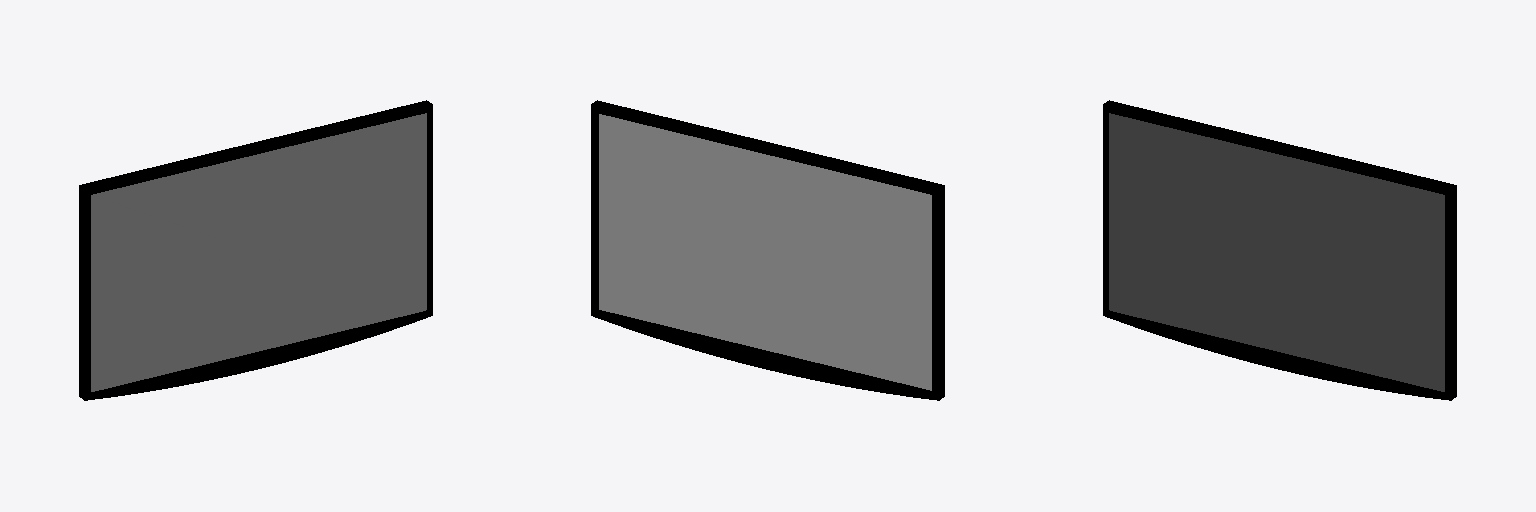
The model's file is Pantalla_o.obj.
3 renders of one model, left to right at view 1: azimuth 30°, elevation 25°; view 2: azimuth 150°, elevation 25°; view 3: azimuth 330°, elevation 25°, orthographic.
Parts seen in each view (by area): view 1: Pantalla TV group polySurface1, Pantalla TV group polySurface2; view 2: Pantalla Pantalla TV group, Pantalla TV group polySurface2; view 3: Pantalla TV group polySurface1, Pantalla TV group polySurface2.
Boxes of the visible parts, x1,y1,x2,y2 form: Pantalla TV group polySurface1: [91, 113, 426, 391]; Pantalla TV group polySurface2: [79, 100, 432, 400]; Pantalla Pantalla TV group: [599, 114, 931, 390]; Pantalla TV group polySurface2: [591, 100, 944, 400]; Pantalla TV group polySurface1: [1109, 113, 1444, 391]; Pantalla TV group polySurface2: [1103, 100, 1456, 400].
Size of the model in its own units: 230 by 140 by 6.95.